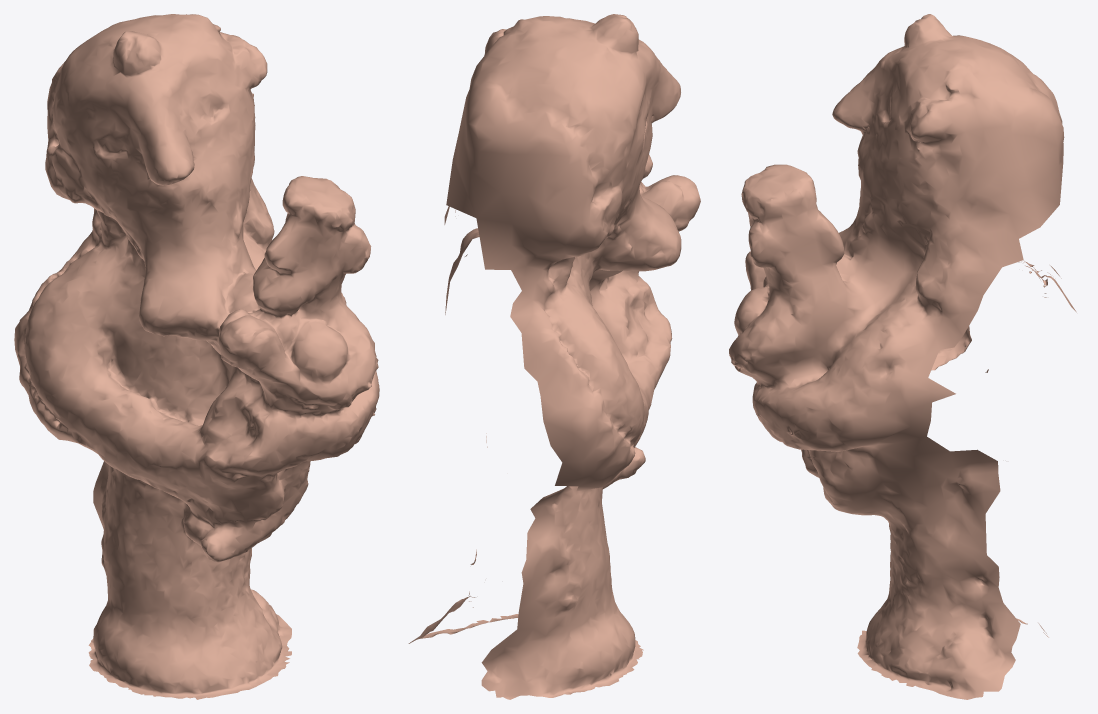
File: wc-mahg-terracotta-man-holding-child.glb
The picture shows the model from 3 angles, left to right: view 1: azimuth 30°, elevation 25°; view 2: azimuth 150°, elevation 25°; view 3: azimuth 270°, elevation 25°; orthographic projection. The views are drawn at different scales.
Visible parts, largest first — view 1: wc-mahg-terracotta-man-holding-child; view 2: wc-mahg-terracotta-man-holding-child; view 3: wc-mahg-terracotta-man-holding-child.
Boxes of the visible parts, left/top/right/bottom form: wc-mahg-terracotta-man-holding-child: left=14, top=14, right=379, bottom=699; wc-mahg-terracotta-man-holding-child: left=408, top=14, right=700, bottom=699; wc-mahg-terracotta-man-holding-child: left=729, top=14, right=1076, bottom=699.
Size of the model in its own units: 0.0877 by 0.22 by 0.1173.
